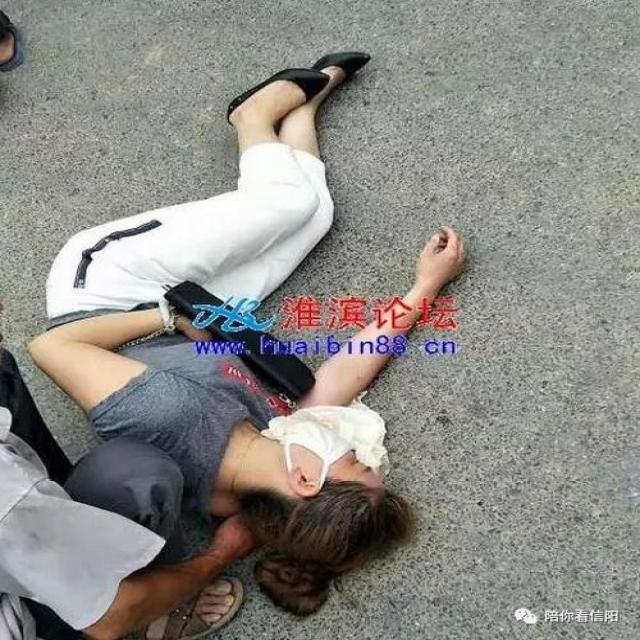fall: (76, 47, 400, 585)
